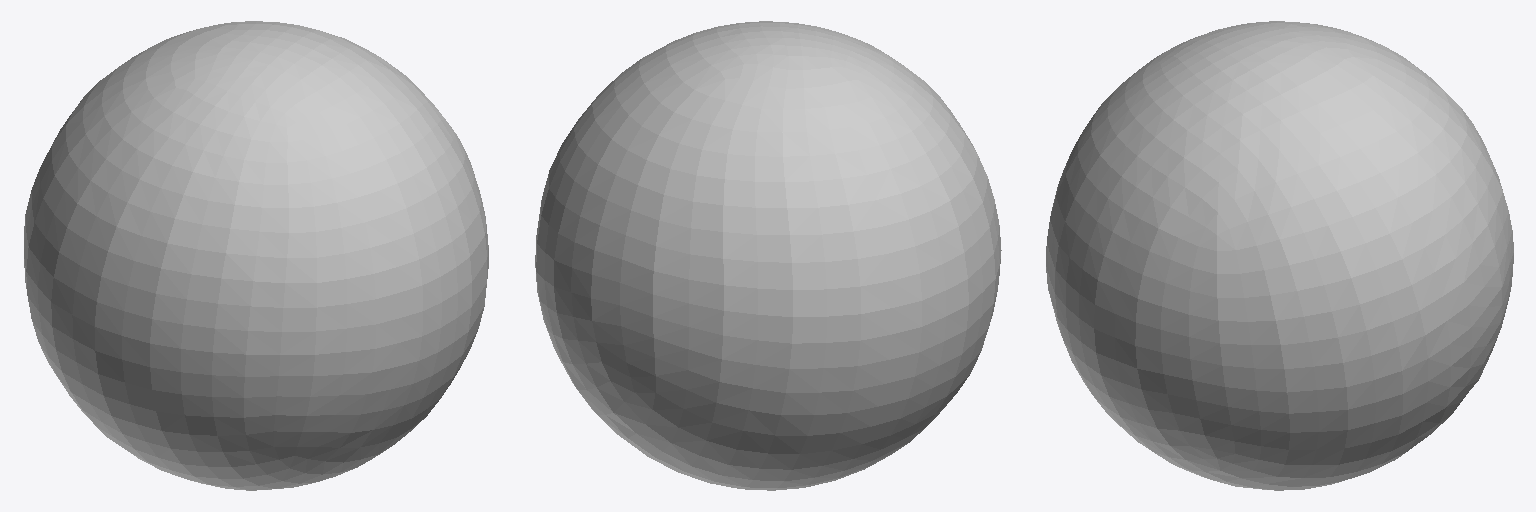
File: PingPongBall.obj
3 renders of one model, left to right at view 1: azimuth 30°, elevation 25°; view 2: azimuth 150°, elevation 25°; view 3: azimuth 270°, elevation 25°, orthographic.
Parts seen in each view (by area): view 1: uploads_files_[number redacted]_Table+Tennis+Ball_v1_002; view 2: uploads_files_[number redacted]_Table+Tennis+Ball_v1_002; view 3: uploads_files_[number redacted]_Table+Tennis+Ball_v1_002.
Part boxes in pixels (left/top/right/bottom): uploads_files_[number redacted]_Table+Tennis+Ball_v1_002: left=24, top=21, right=488, bottom=490; uploads_files_[number redacted]_Table+Tennis+Ball_v1_002: left=535, top=21, right=1001, bottom=490; uploads_files_[number redacted]_Table+Tennis+Ball_v1_002: left=1046, top=21, right=1513, bottom=490.
Size of the model in its own units: 4.34 by 4.37 by 4.34.